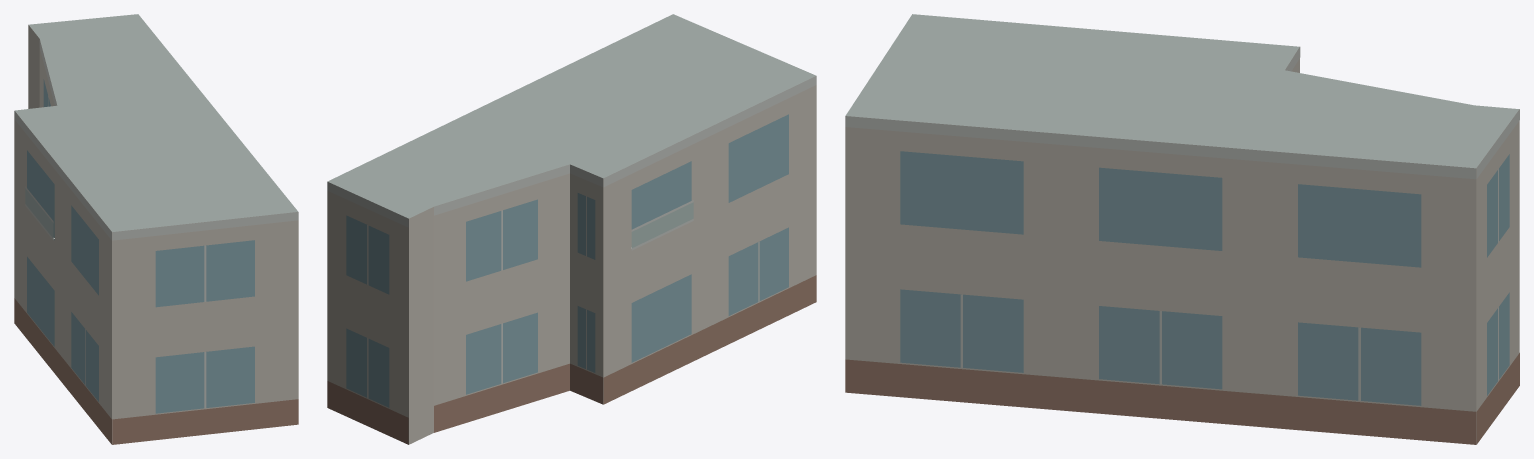
File: survey-upis-32478860.glb
3 renders of one model, left to right at view 1: azimuth 30°, elevation 25°; view 2: azimuth 150°, elevation 25°; view 3: azimuth 270°, elevation 25°, orthographic. The views are drawn at different scales.
Visible parts, largest first — view 1: survey-upis-32478860.tmp; view 2: survey-upis-32478860.tmp; view 3: survey-upis-32478860.tmp.
Boxes of the visible parts, box(x1,y1,x2,y2) form: survey-upis-32478860.tmp: box(14, 14, 298, 444); survey-upis-32478860.tmp: box(327, 14, 816, 444); survey-upis-32478860.tmp: box(845, 14, 1519, 444).
Bounding box in the file's own units: 7.31 × 6.1 × 13.49.
